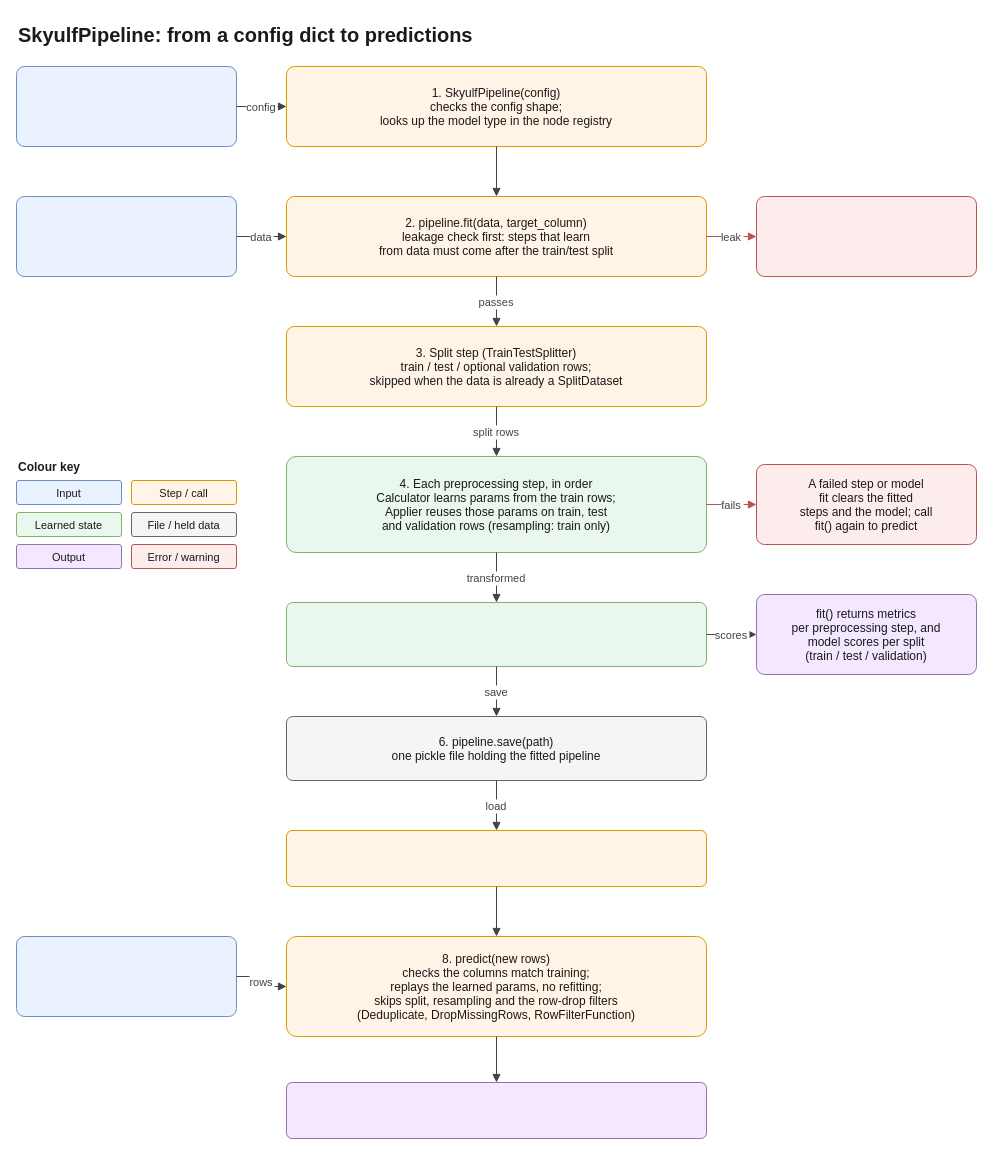
Some shapes in this 993 by 1155 pixel diagram are drawn without their labels. The centre of each missing label's shape, as x and y in pixels:
5. Model fit on the transformed train rows: the point at 496,634
7. SkyulfPipeline.load(path): the point at 496,858
Config dict preprocessing: list of steps modeling: model type + params: the point at 126,106
New rows same feature columns, no target column: the point at 126,976
Predictions one per input row: the point at 496,1110
Training data pandas or polars DataFrame, or a ready SplitDataset: the point at 126,236
ValueError (on_leakage="raise" is the default); nothing is fitted: the point at 866,236
